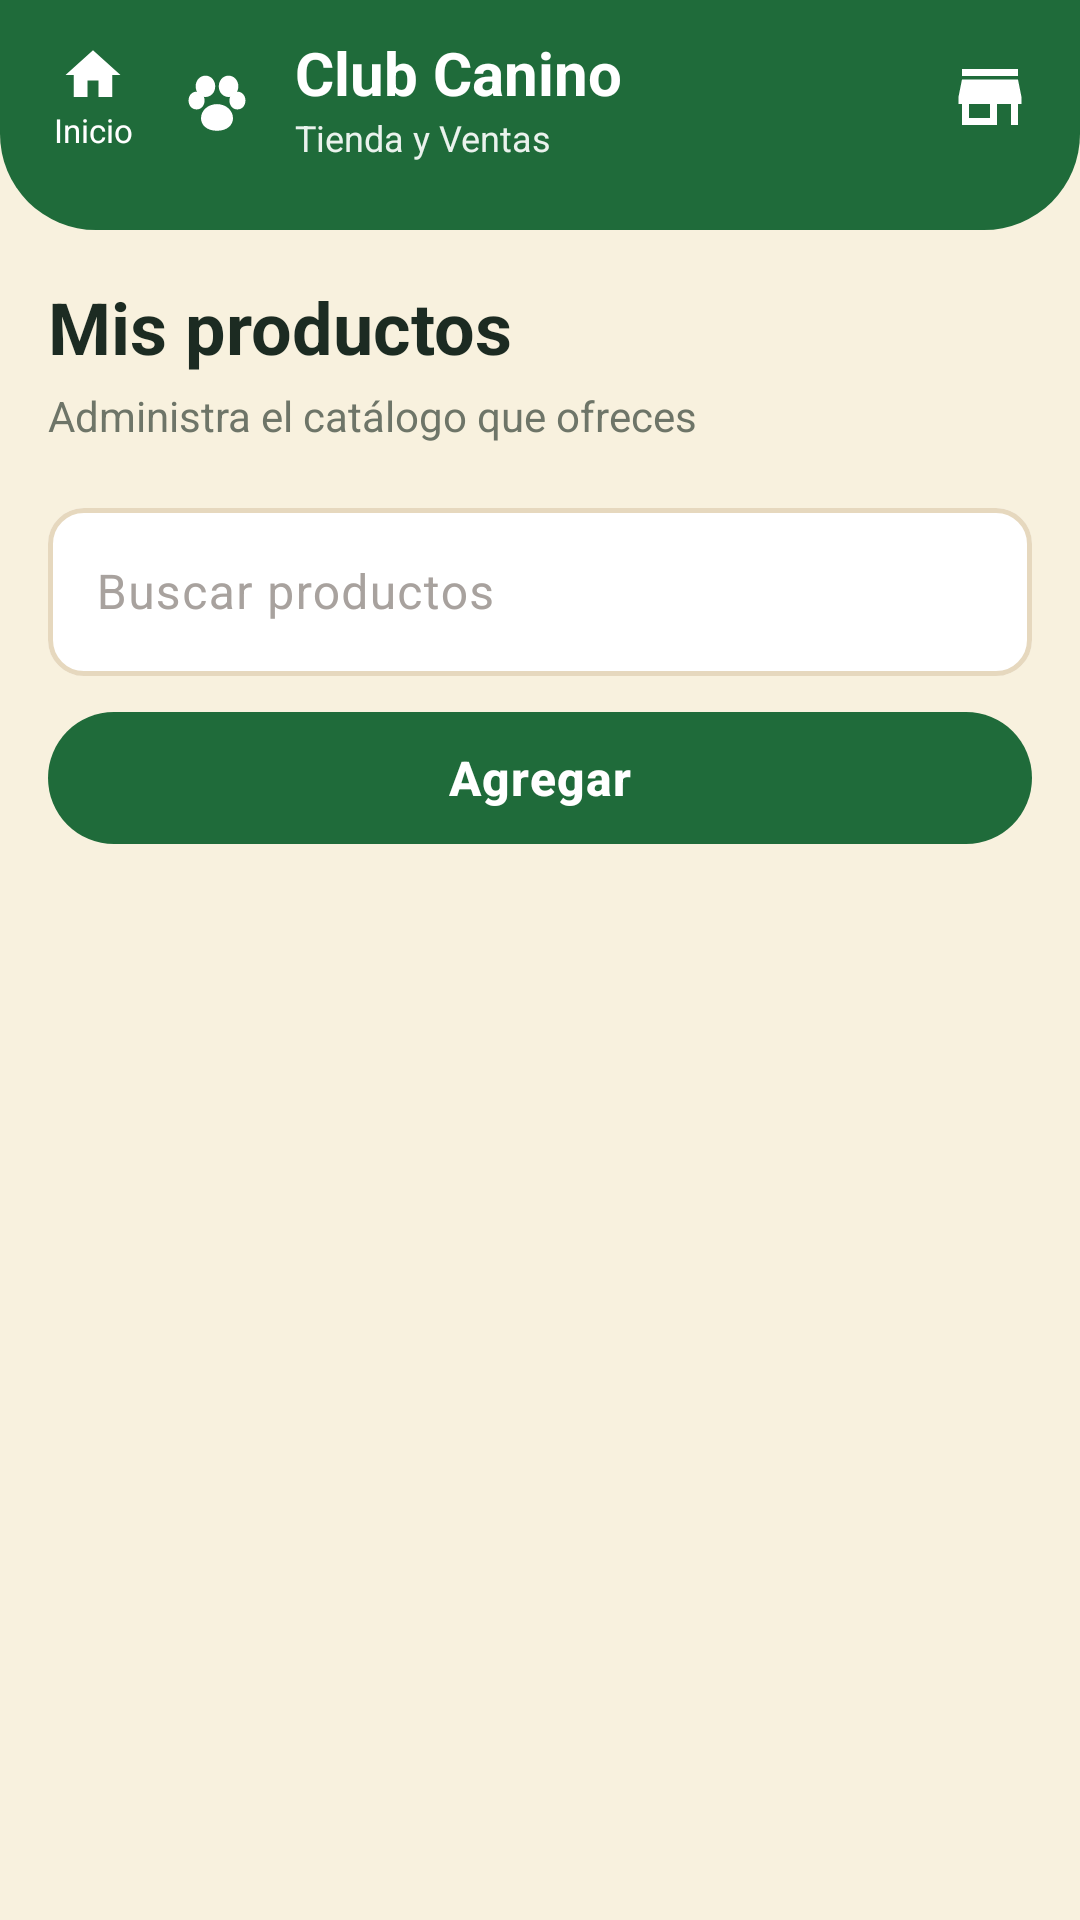

Icon bounding boxes for this 1080x1920 phone screenshot, format (x1, y1, x2, y2):
paw: (188, 75, 246, 131)
store: (958, 69, 1022, 125)
